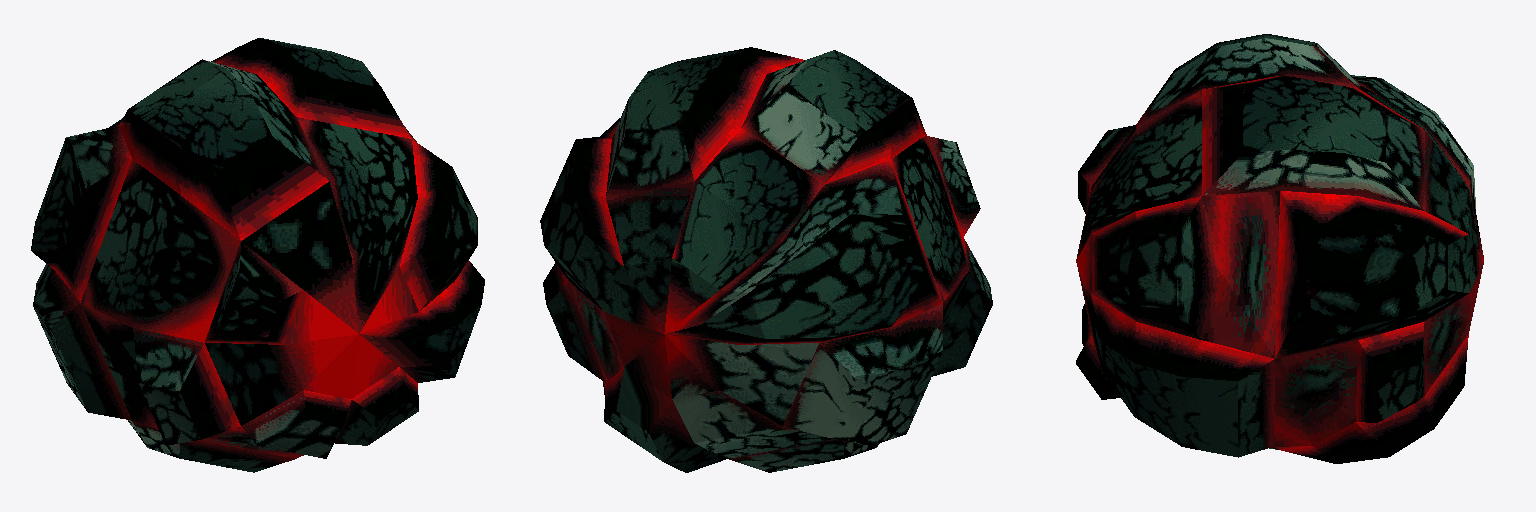
3 views of the same model, side by side, from view 1: azimuth 30°, elevation 25°; view 2: azimuth 150°, elevation 25°; view 3: azimuth 270°, elevation 25° (orthographic).
Parts seen in each view (by area): view 1: Inst3D27_RefRep.425; view 2: Inst3D27_RefRep.425; view 3: Inst3D27_RefRep.425.
Part boxes in pixels (x1,y1,x2,y2): Inst3D27_RefRep.425: (31, 38, 484, 472); Inst3D27_RefRep.425: (540, 47, 992, 472); Inst3D27_RefRep.425: (1076, 34, 1483, 463).
Bounding box in the file's own units: 3.39 × 3.42 × 3.15.
1 materials, 1 textured.